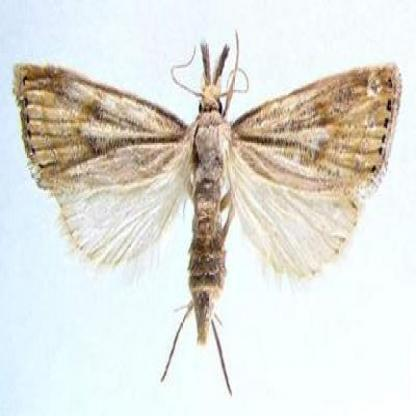stem-borer: (11, 25, 402, 398)
